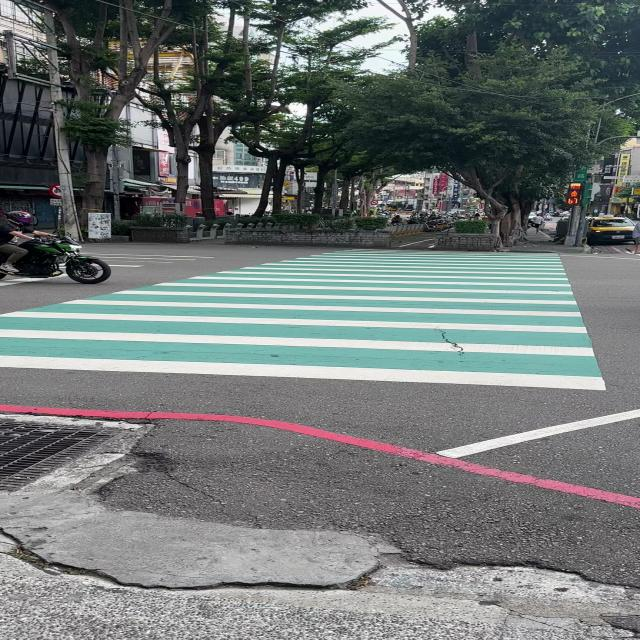car: (587, 218, 635, 245)
crosswalk: (0, 247, 610, 398)
motocycle: (6, 236, 110, 284)
